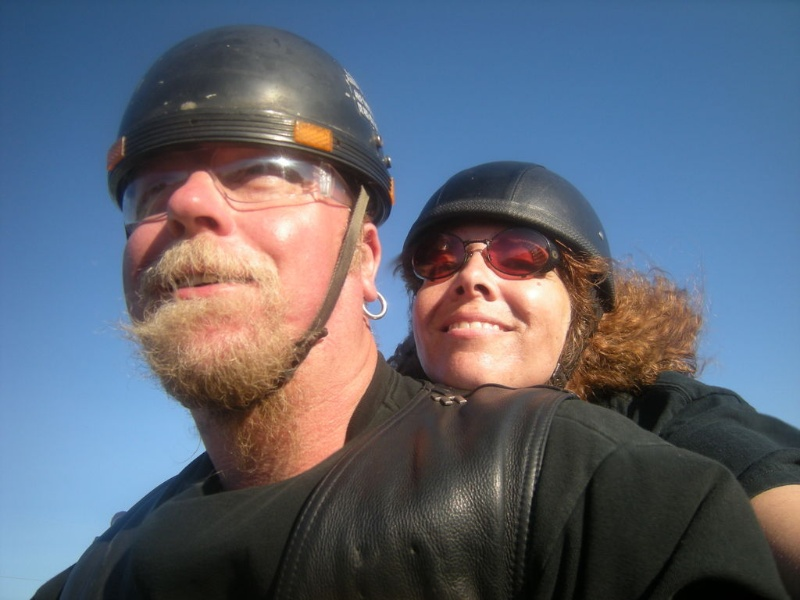Baret: (107, 24, 387, 180), (403, 160, 615, 251)
Gozluk: (115, 149, 357, 215)
